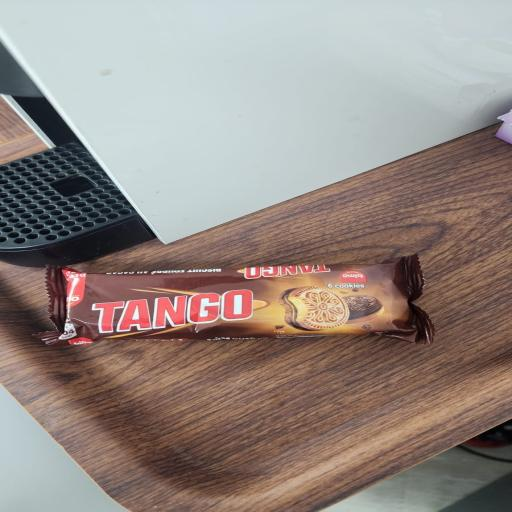tango: (34, 223, 482, 401)
